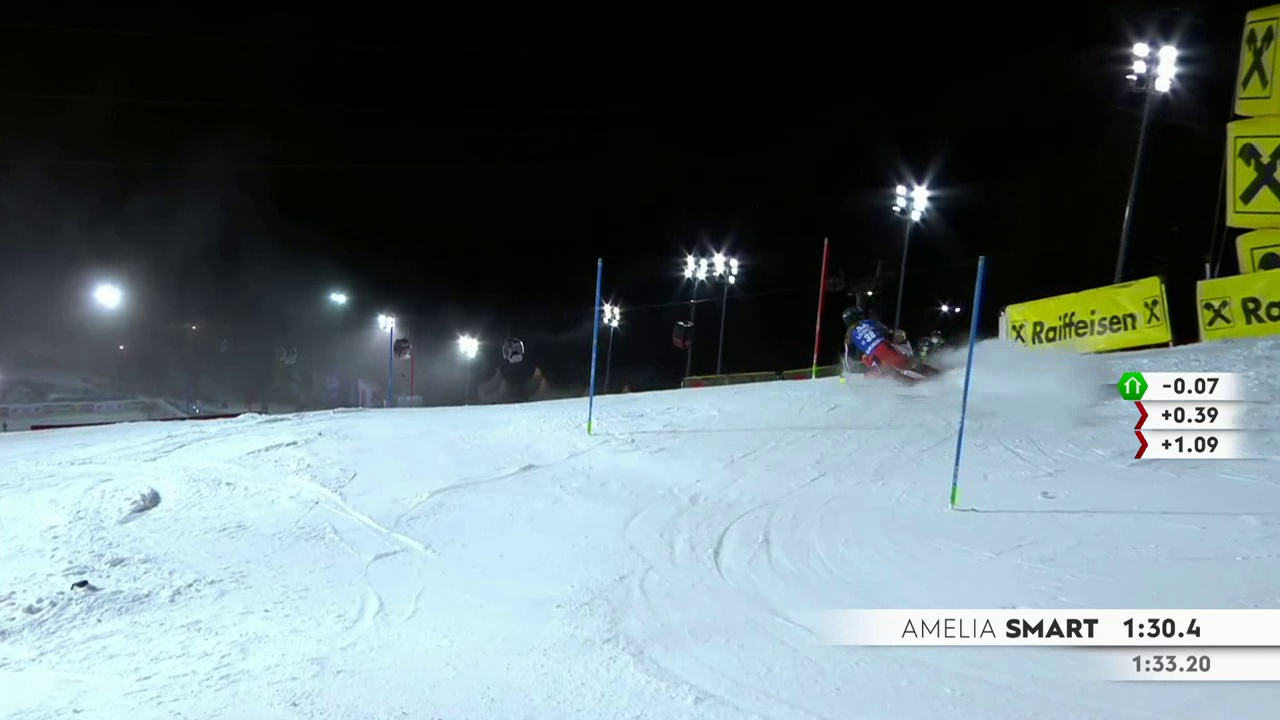raiffeisen: (1013, 285, 1159, 352), (1199, 267, 1279, 340), (1231, 127, 1279, 224), (1235, 15, 1279, 112)
